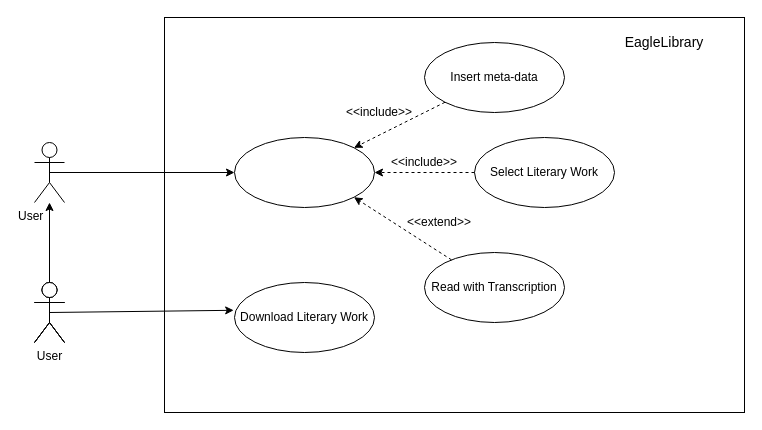
Some shapes in this 762 by 430 pixel diagram are drawn without their labels. Here are the shapes that lost their labels. From the top down, the centre of each, then its label:
At point 304,172: "View Literary Work".
At point 49,312: "Downloader".
